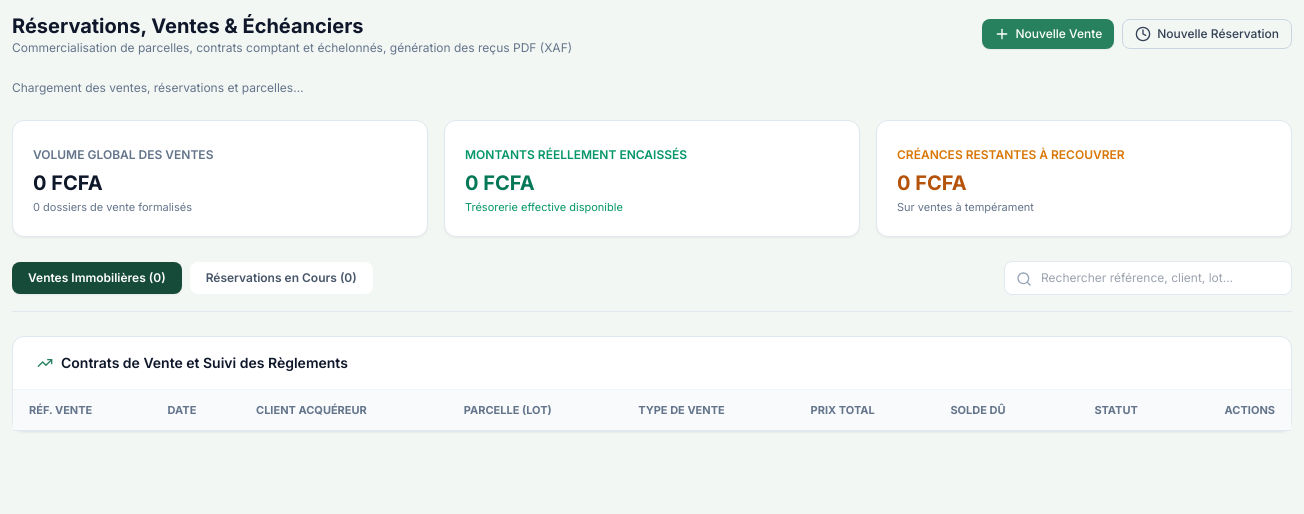
SalesPage en mode connecté — conversion réservation → vente › propose la conversion sur une réservation active et pas sur une réservation expirée
Click the button "Réservations en Cours (0)".
click(281, 278)  # box top-left (190, 262), bottom-right (373, 294)
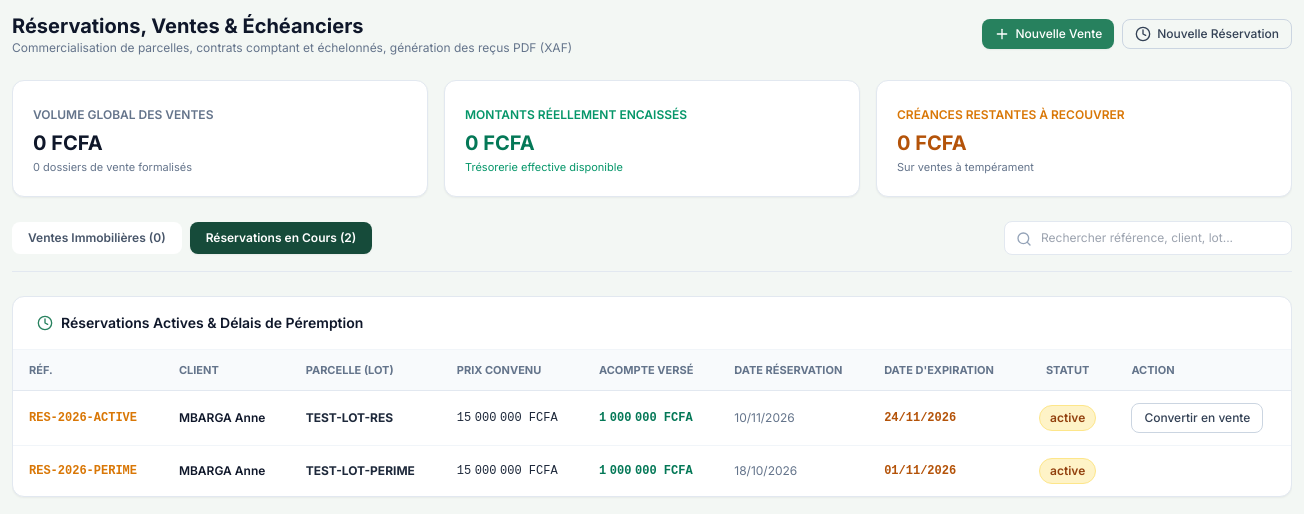
Result: the text "RES-2026-ACTIVE" is shown at top-left (13, 390), bottom-right (163, 445)
Result: the button "Convertir en vente" is shown at top-left (1131, 402), bottom-right (1263, 432)
